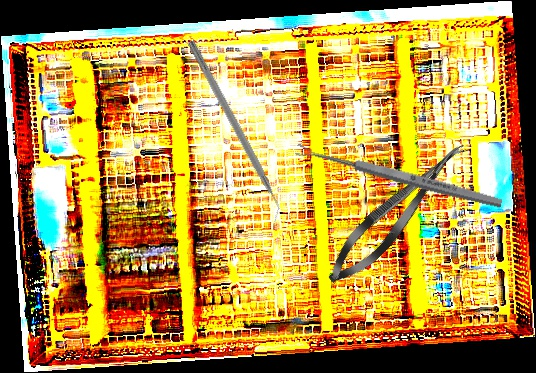Chopper: (177, 39, 289, 226)
Micro Scissor: (317, 131, 477, 294)
Surgical Spoon: (294, 141, 504, 211)
